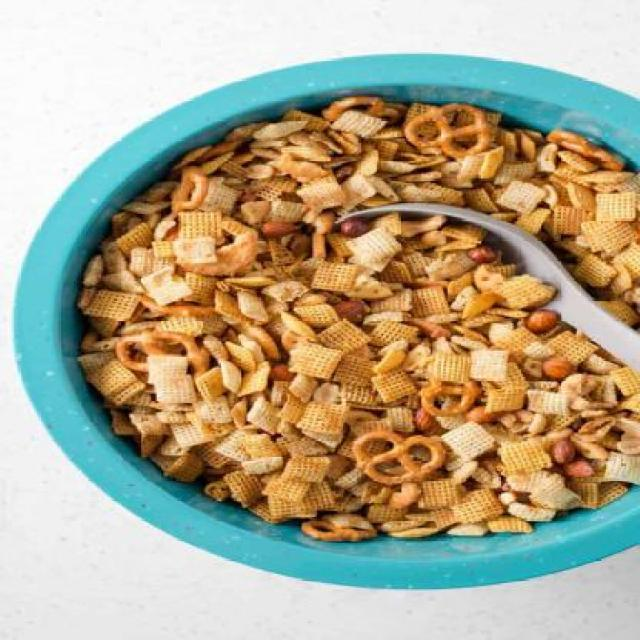Salatini packaged: (80, 106, 620, 530)
